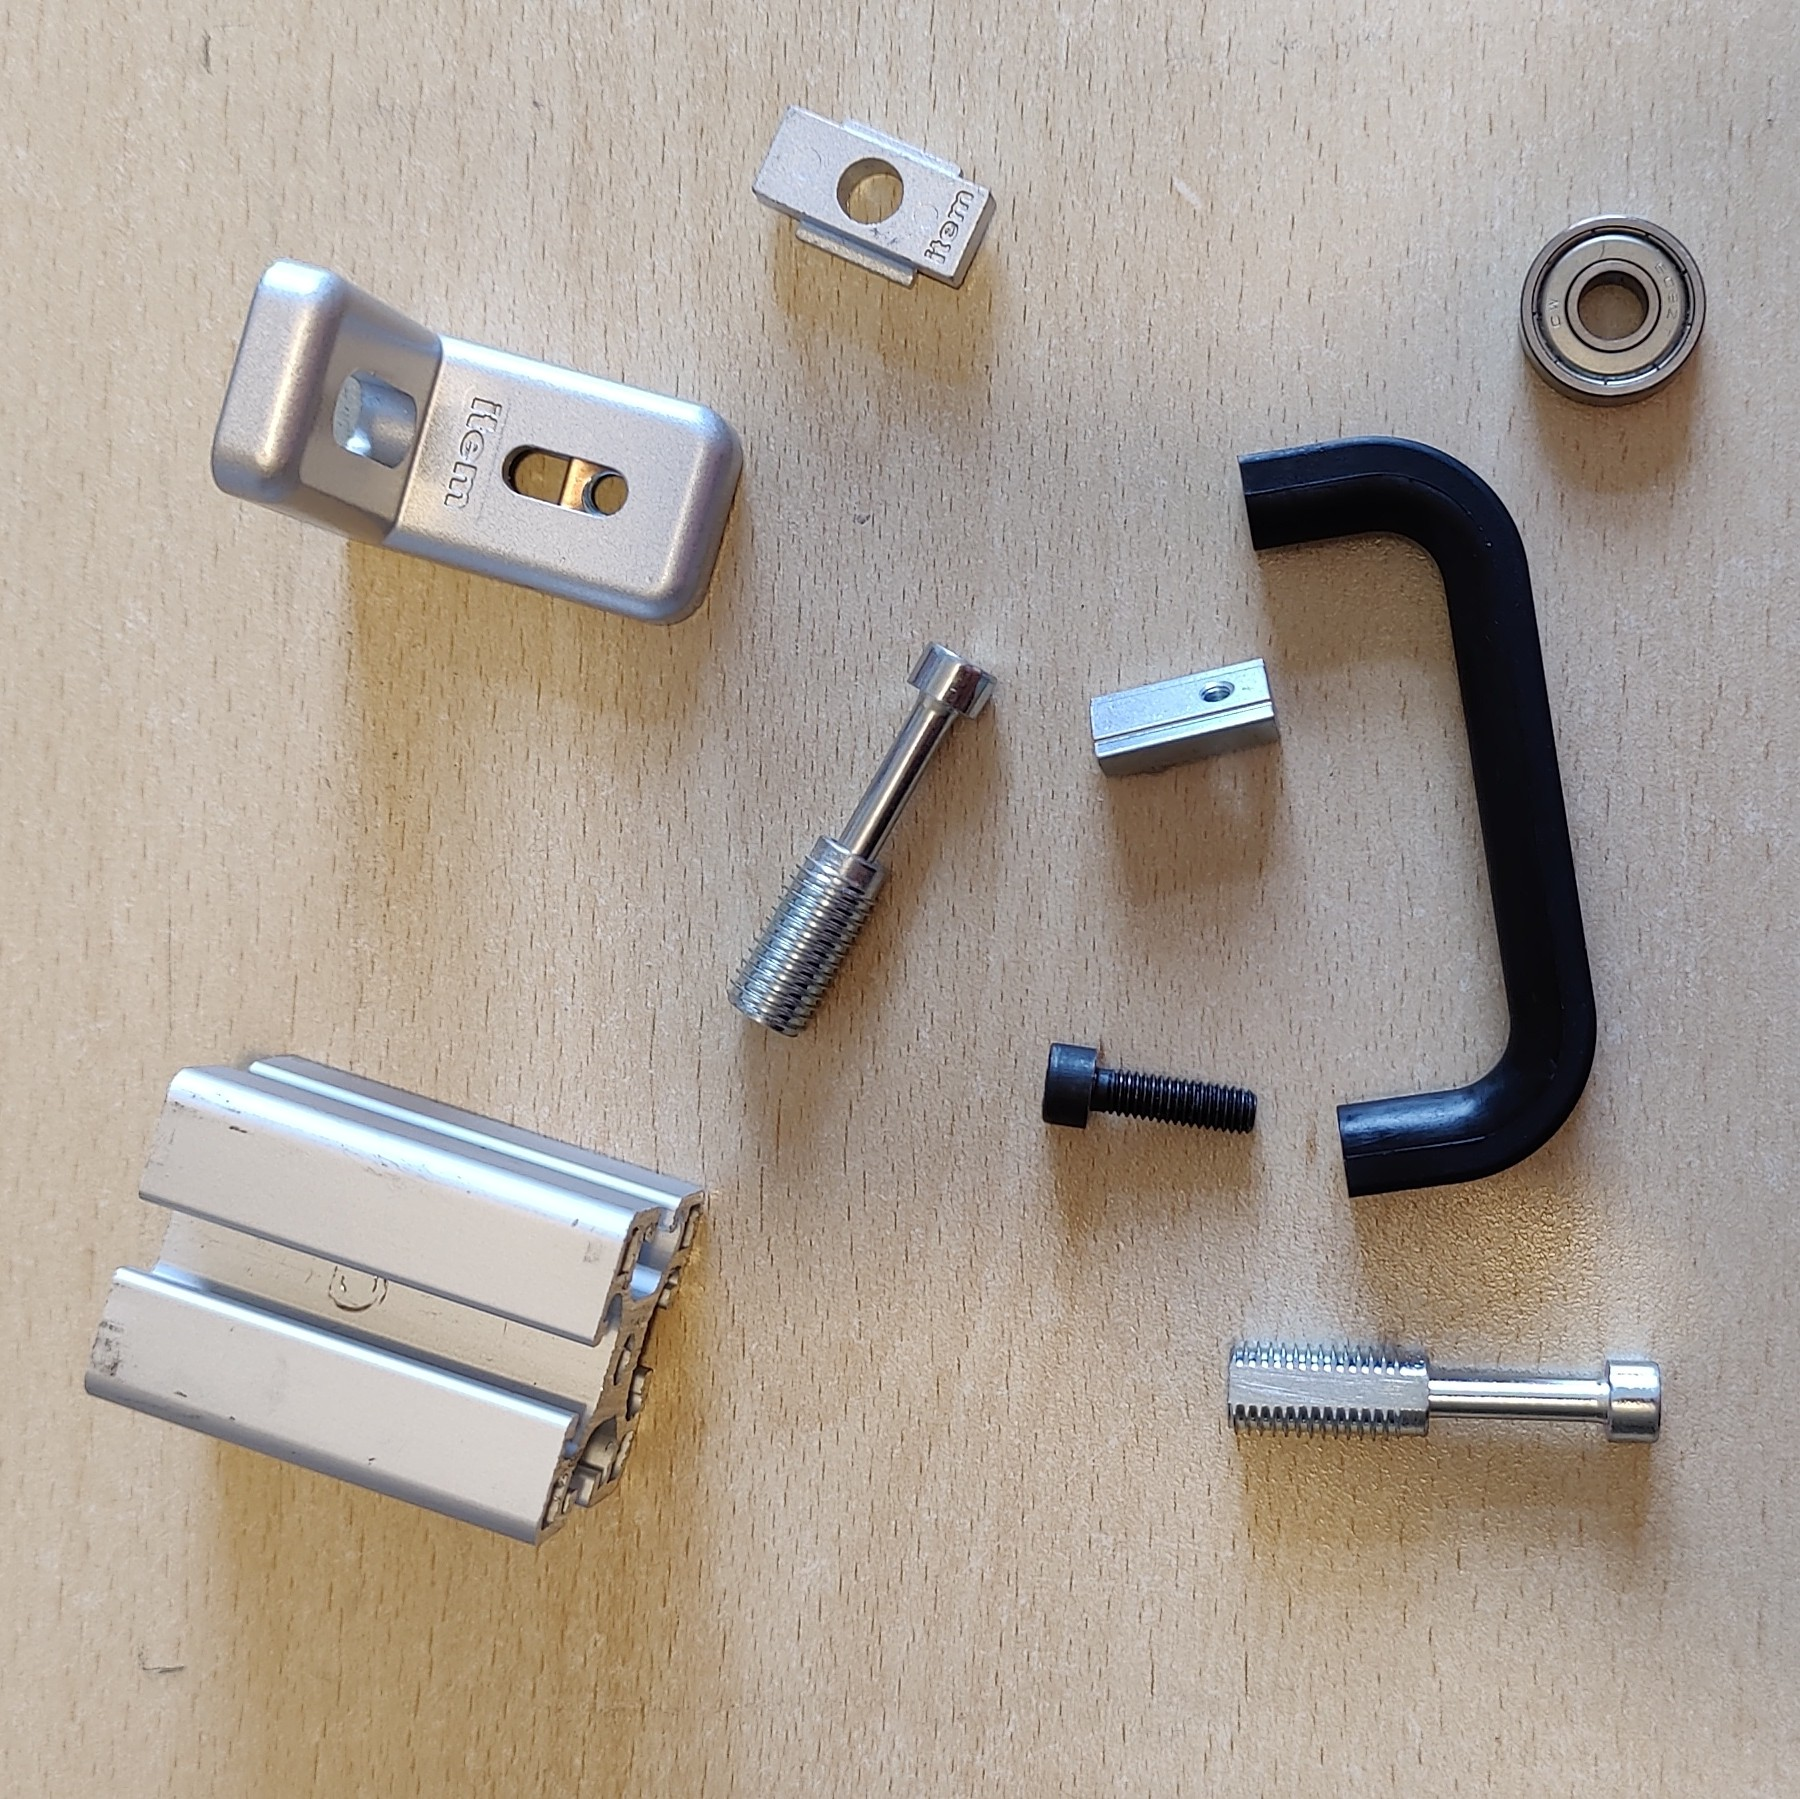Aluminium Extension: (81, 1049, 711, 1549)
Ball Bearing: (1515, 211, 1709, 410)
Multiwinkel: (208, 259, 748, 628)
Pull Handle: (1233, 433, 1601, 1199)
Shoulder Socket Head Cap Screw: (725, 638, 1001, 1041), (1224, 1333, 1667, 1450)
Socket Head Cap Screw: (1039, 1036, 1261, 1135)
T Nut Square: (749, 102, 1001, 295)
T Spring Nut: (1085, 654, 1285, 783)
